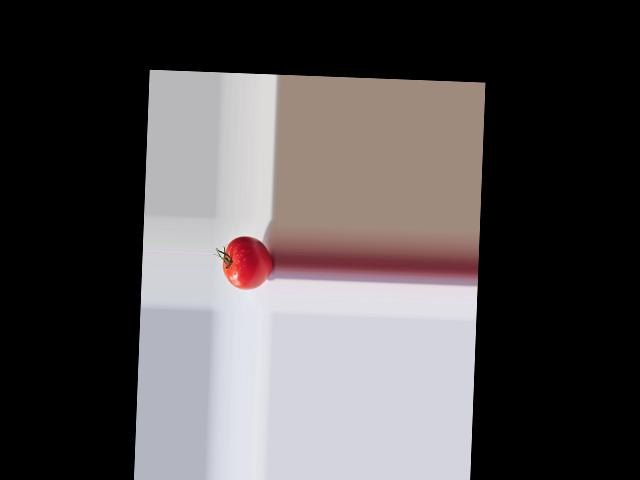tomato: (222, 236, 273, 291)
